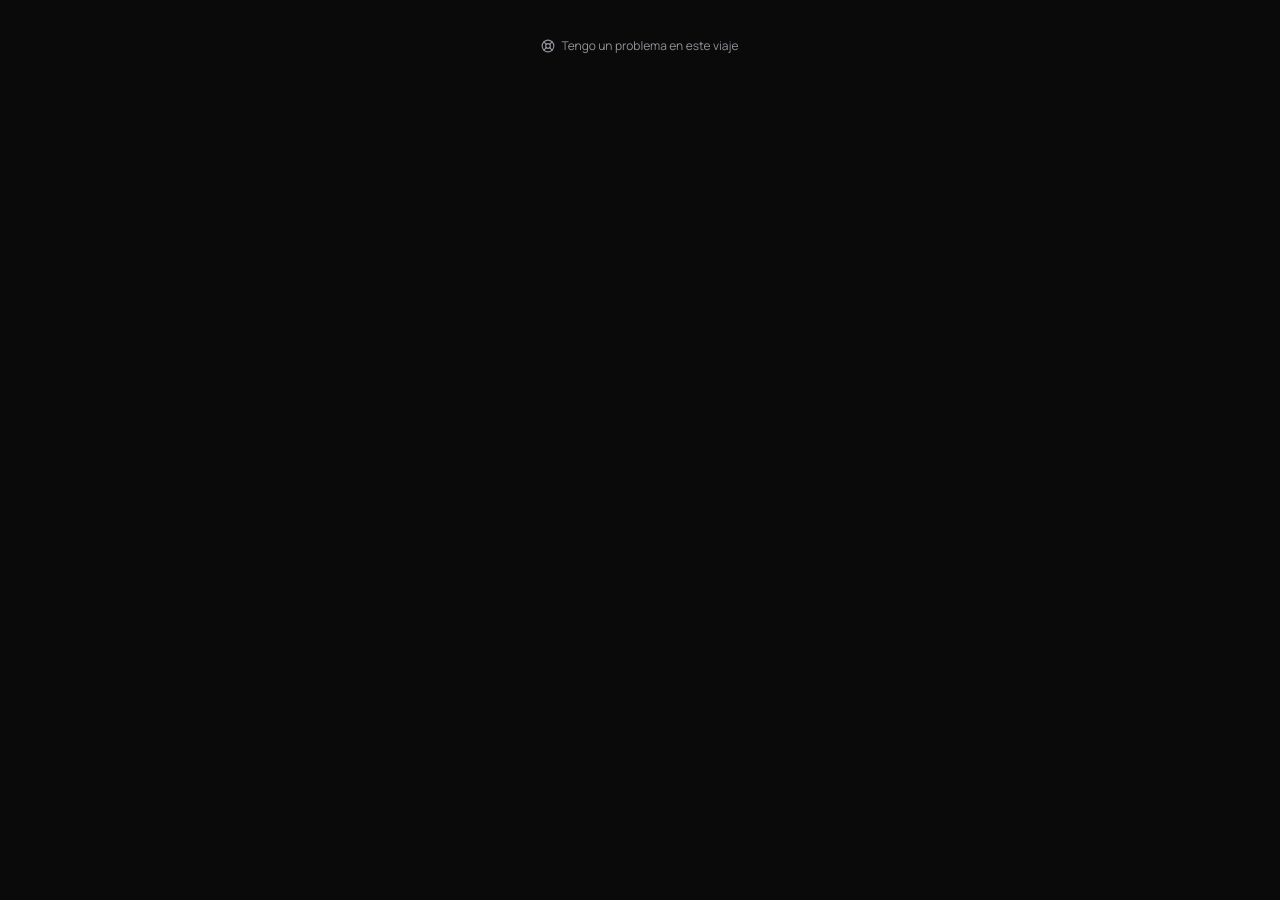
Test: entradas discretas a «Tengo un problema» › dentro del viaje: enlace pequeño que abre el formulario con ese viaje
Click the button with test id "trip-incident-link" at (640, 46), box x1=534 y1=24 x2=747 y2=68
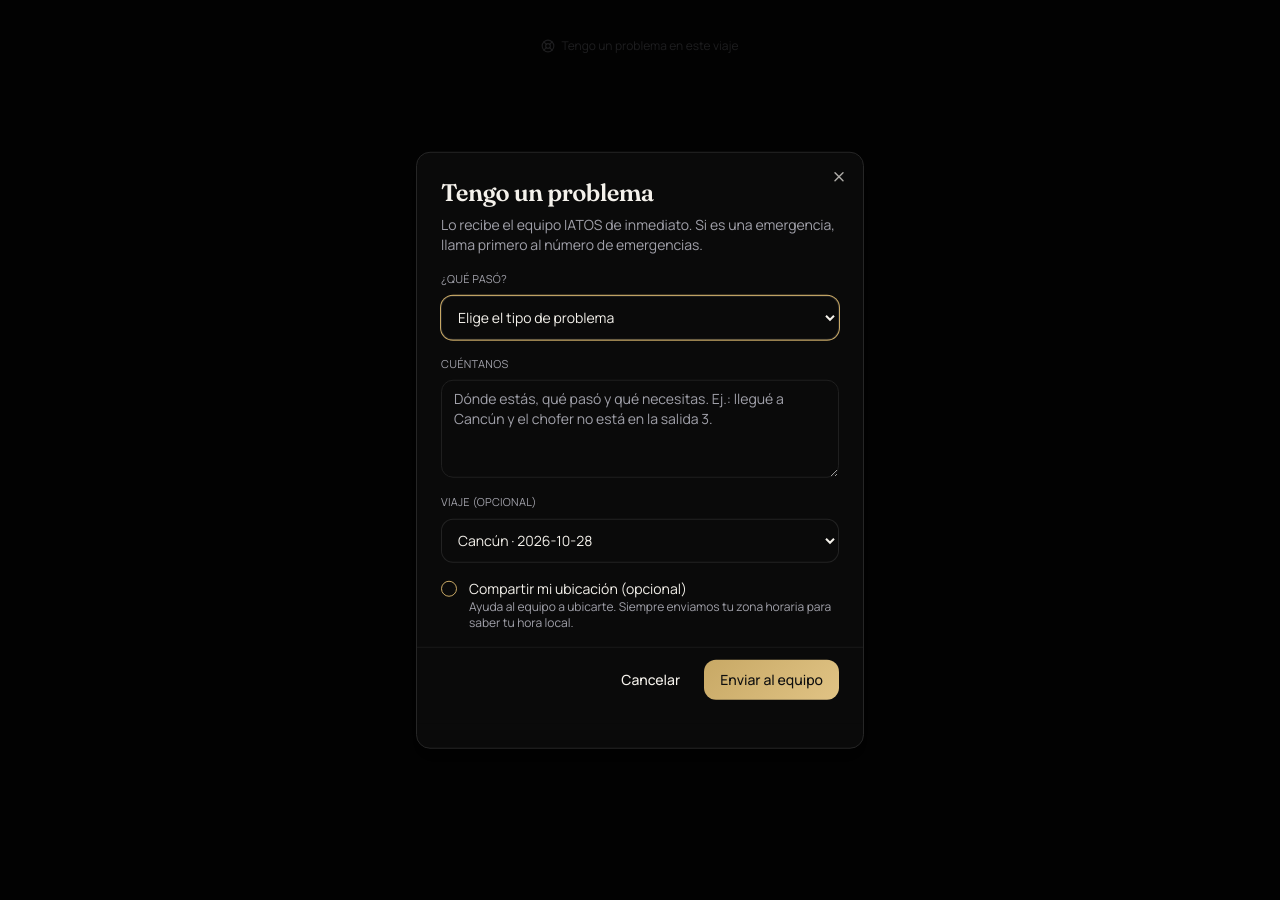
Check: the dialog with test id "incident-dialog" is shown, box x1=416 y1=152 x2=864 y2=748
Check: the dropdown labelled "Viaje (opcional)" shows "Cancún · 2026-10-28", box x1=441 y1=518 x2=839 y2=562
